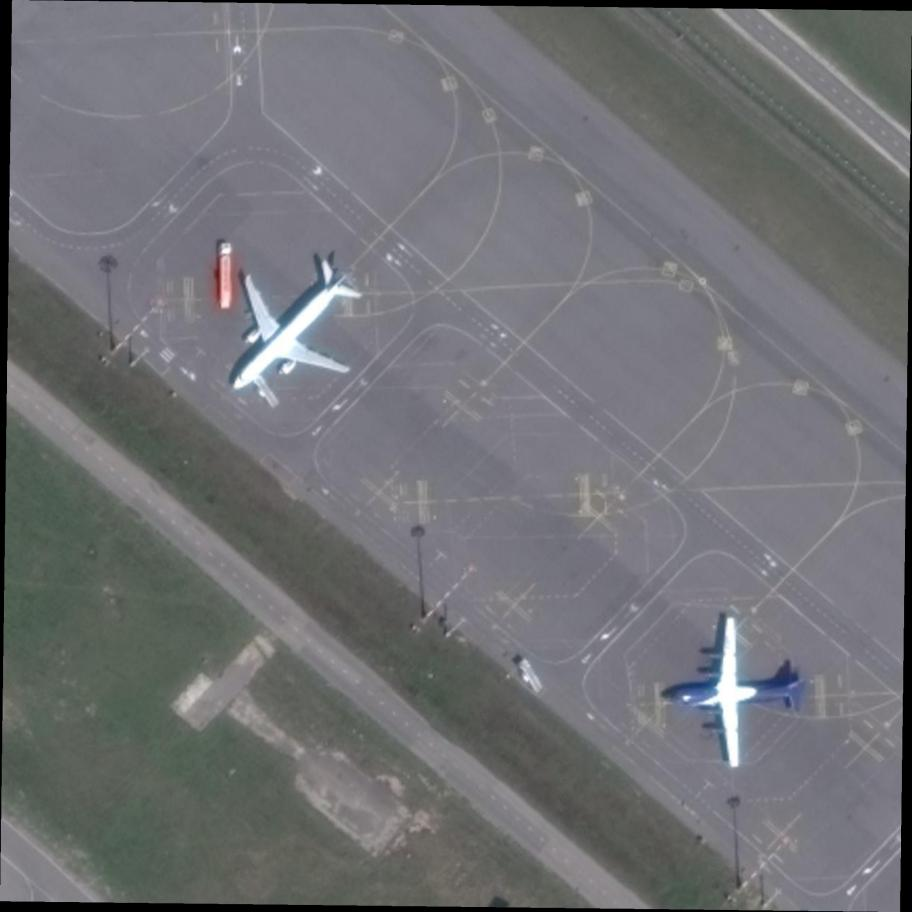large-vehicle: (216, 239, 235, 313)
plane: (183, 223, 397, 438), (669, 613, 807, 768)
